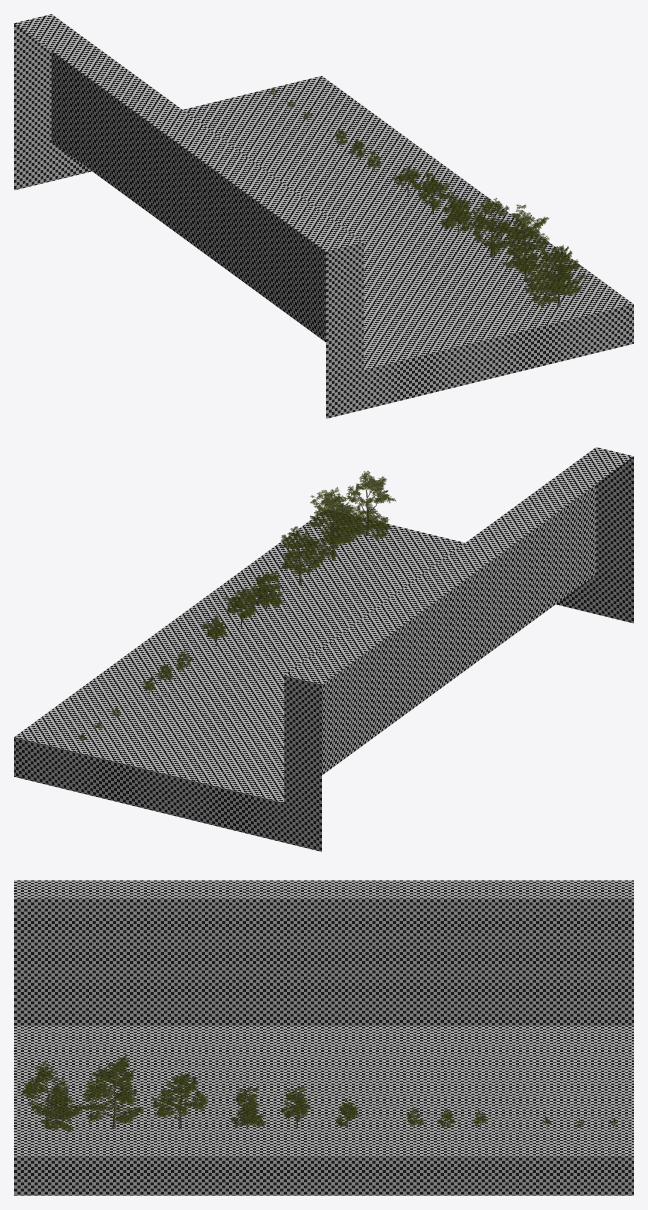
The model's file is maple_trees_optimized_single_upload.glb.
The picture shows the model from 3 angles, top to bottom: view 1: azimuth 30°, elevation 25°; view 2: azimuth 150°, elevation 25°; view 3: azimuth 270°, elevation 25°; orthographic projection.
Visible parts, largest first — view 1: Ground, Acer_large_2_LOD0, Acer_large_1_LOD0, Acer_large_3_LOD0, Acer_medium_1_LOD0, Acer_medium_2_LOD0; view 2: Ground, Acer_large_2_LOD0, Acer_large_1_LOD0, Acer_large_3_LOD0, Acer_medium_1_LOD0, Acer_medium_2_LOD0; view 3: Ground, Acer_large_2_LOD0, Acer_large_1_LOD0, Acer_large_3_LOD0, Acer_medium_1_LOD0, Acer_medium_2_LOD0.
Part boxes in pixels (x1,y1,x2,y2): Ground: (14,14,633,418); Acer_large_2_LOD0: (502,204,551,282); Acer_large_1_LOD0: (524,245,585,307); Acer_large_3_LOD0: (468,197,515,257); Acer_medium_1_LOD0: (440,192,474,232); Acer_medium_2_LOD0: (418,171,448,214); Ground: (14,447,633,851); Acer_large_2_LOD0: (302,486,366,560); Acer_large_1_LOD0: (335,471,395,540); Acer_large_3_LOD0: (281,526,326,584); Acer_medium_1_LOD0: (246,571,283,609); Acer_medium_2_LOD0: (225,588,256,627); Ground: (14,880,633,1195); Acer_large_2_LOD0: (81,1054,143,1128); Acer_large_1_LOD0: (21,1061,83,1131); Acer_large_3_LOD0: (152,1073,207,1128); Acer_medium_1_LOD0: (231,1087,265,1128); Acer_medium_2_LOD0: (280,1086,310,1128).
Size of what is drawn, in the model's own units: 106 by 55 by 186.
Materials: 3 (3 with a texture image).
